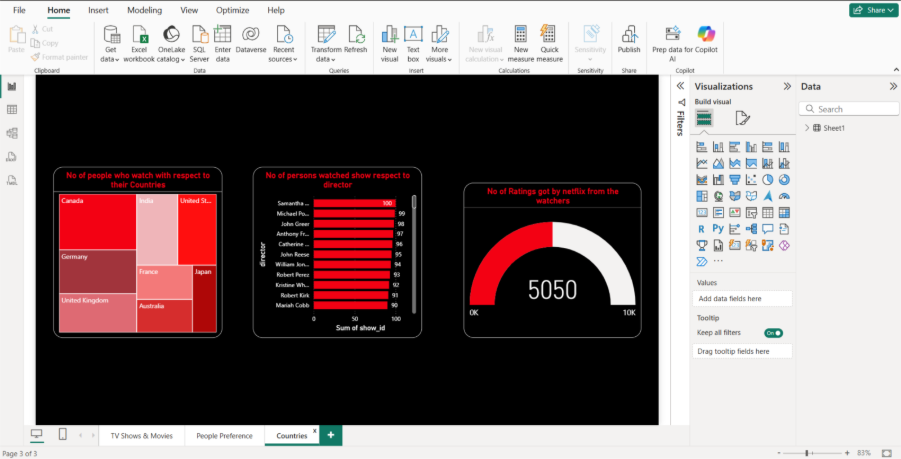

What the dashboard file says about the page in this screenshot:
{"tool":"powerbi","page":{"name":"Countries","canvas":[1280,720],"ordinal":2},"visuals":[{"type":"treemap","title":"No of people who watch with respect to their Countries","fields":{"Group":["Sheet1.country"],"Values":["Sheet1.show_id"]},"box":[35.7,189.4,347.2,351.3],"z":0},{"type":"gauge","title":"No of Ratings got by netflix from the watchers","fields":{"Y":["Sheet1.show_id"]},"box":[879.6,222.3,365,318.4],"z":1000},{"type":"clusteredBarChart","title":"No of persons watched show respect to director","fields":{"Category":["Sheet1.director"],"Y":["Sheet1.show_id"]},"box":[446,189.4,347.2,351.3],"z":2000}]}

Visuals, with their boxes on the page's 1280x720 design canvas (x1, y1, x2, y2). These are canvas units, not pixel positions in the 901x459 screenshot, which may show the page scaled, cropped or inside an application window:
"No of people who watch with respect to their Countries" treemap: crop(36, 189, 383, 541)
"No of Ratings got by netflix from the watchers" gauge: crop(880, 222, 1245, 541)
"No of persons watched show respect to director" clusteredBarChart: crop(446, 189, 793, 541)
